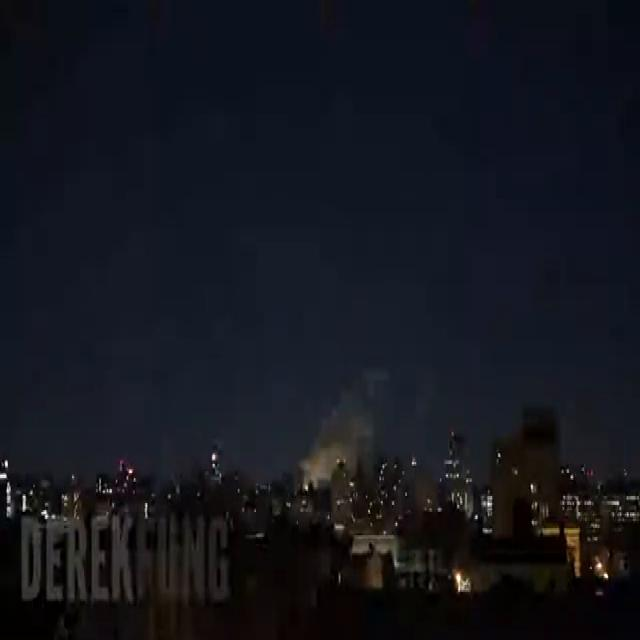smoke: (300, 384, 374, 482)
